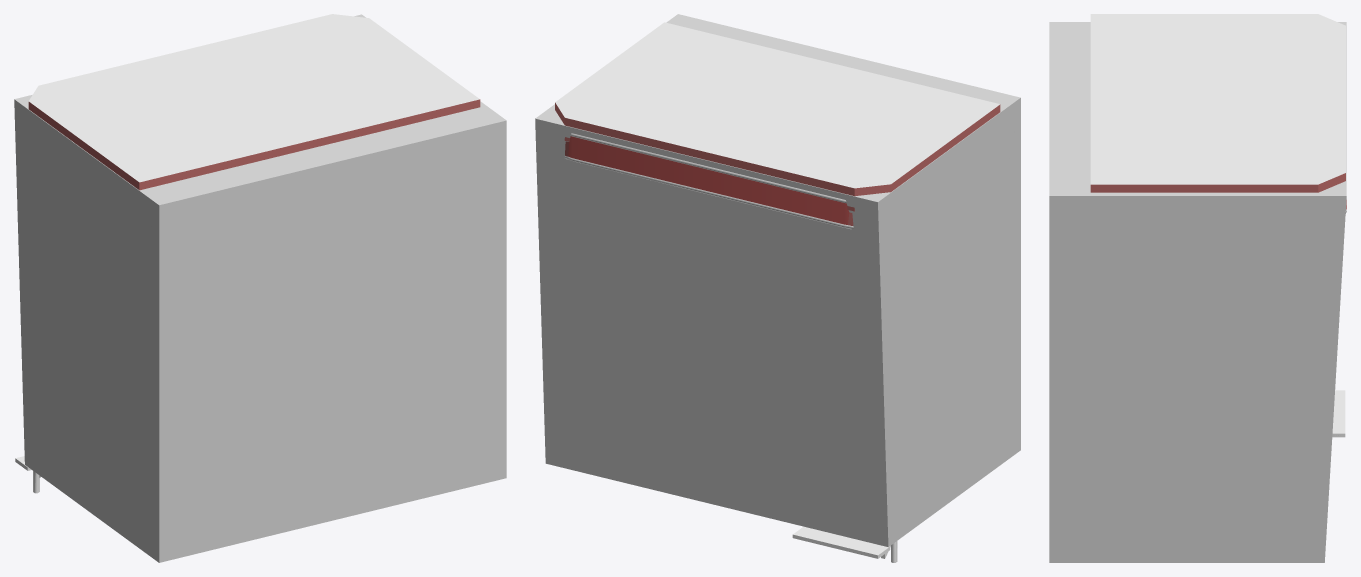
File: marshal_stand.dae
3 views of the same model, side by side, from view 1: azimuth 30°, elevation 25°; view 2: azimuth 150°, elevation 25°; view 3: azimuth 270°, elevation 25° (orthographic). The views are drawn at different scales.
Parts seen in each view (by area): view 1: Colmesh-1, marshal_stand_a030; view 2: Colmesh-1, marshal_stand_a030, marshal_stand_a600; view 3: Colmesh-1, marshal_stand_a030.
Boxes of the visible parts, x1=… form: Colmesh-1: x1=14, y1=14, x2=506, y2=562; marshal_stand_a030: x1=16, y1=14, x2=480, y2=476; Colmesh-1: x1=535, y1=14, x2=1020, y2=547; marshal_stand_a030: x1=555, y1=22, x2=1000, y2=555; marshal_stand_a600: x1=565, y1=133, x2=897, y2=562; Colmesh-1: x1=1049, y1=22, x2=1346, y2=562; marshal_stand_a030: x1=1090, y1=14, x2=1345, y2=433.
Size of the model in its own units: 4.01 by 2.9 by 4.27.
